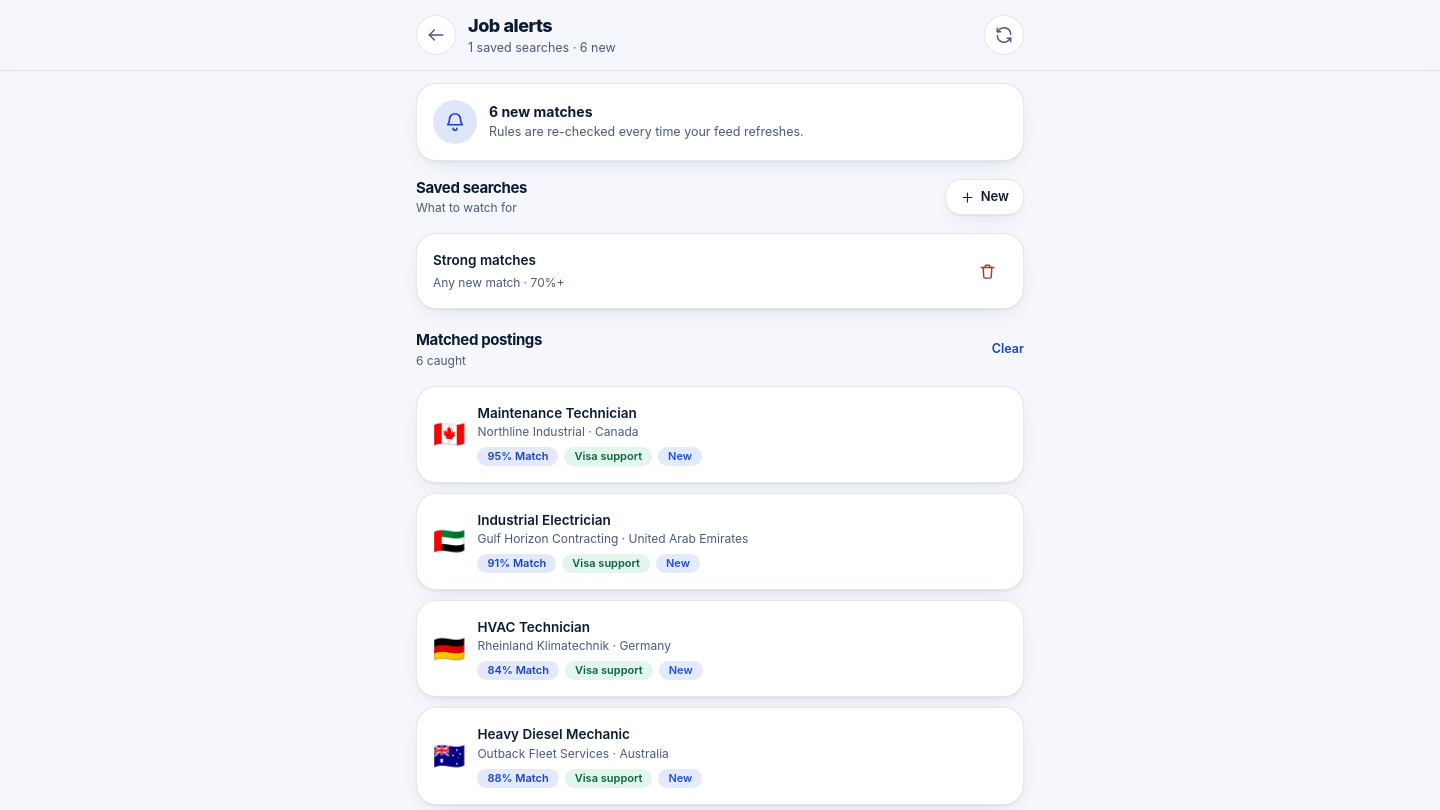
Test: JobAlertsScreen › adds a new saved search from the editor
The width and height of the screenshot is (1440, 810).
Click the button "New".
click(984, 197)  # box [945,179,1024,215]
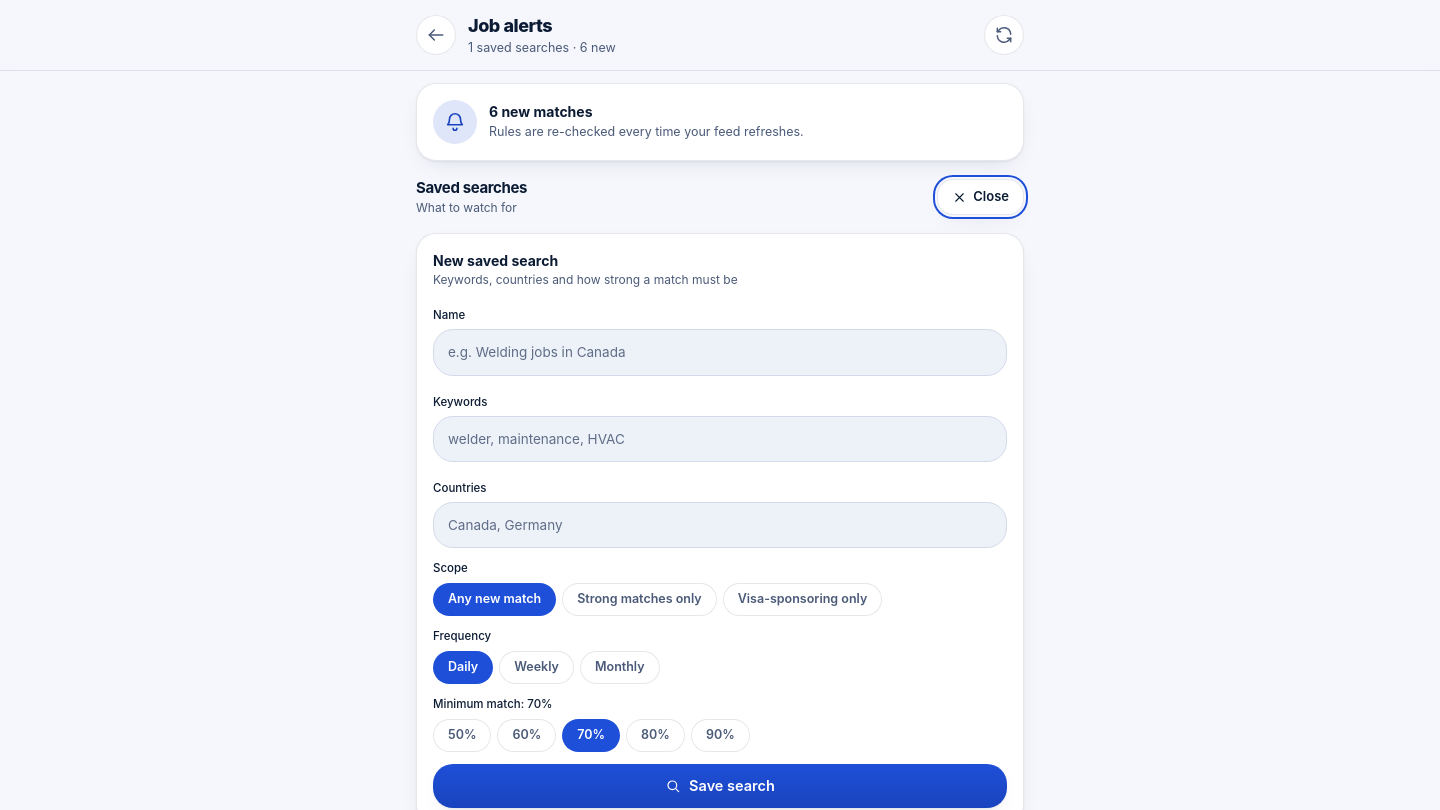
Type "Welders in Canada" into the field with placeholder "e.g. Welding jobs in Canada".
click(720, 352); type("Welders in Canada")  # box [433,329,1007,376]
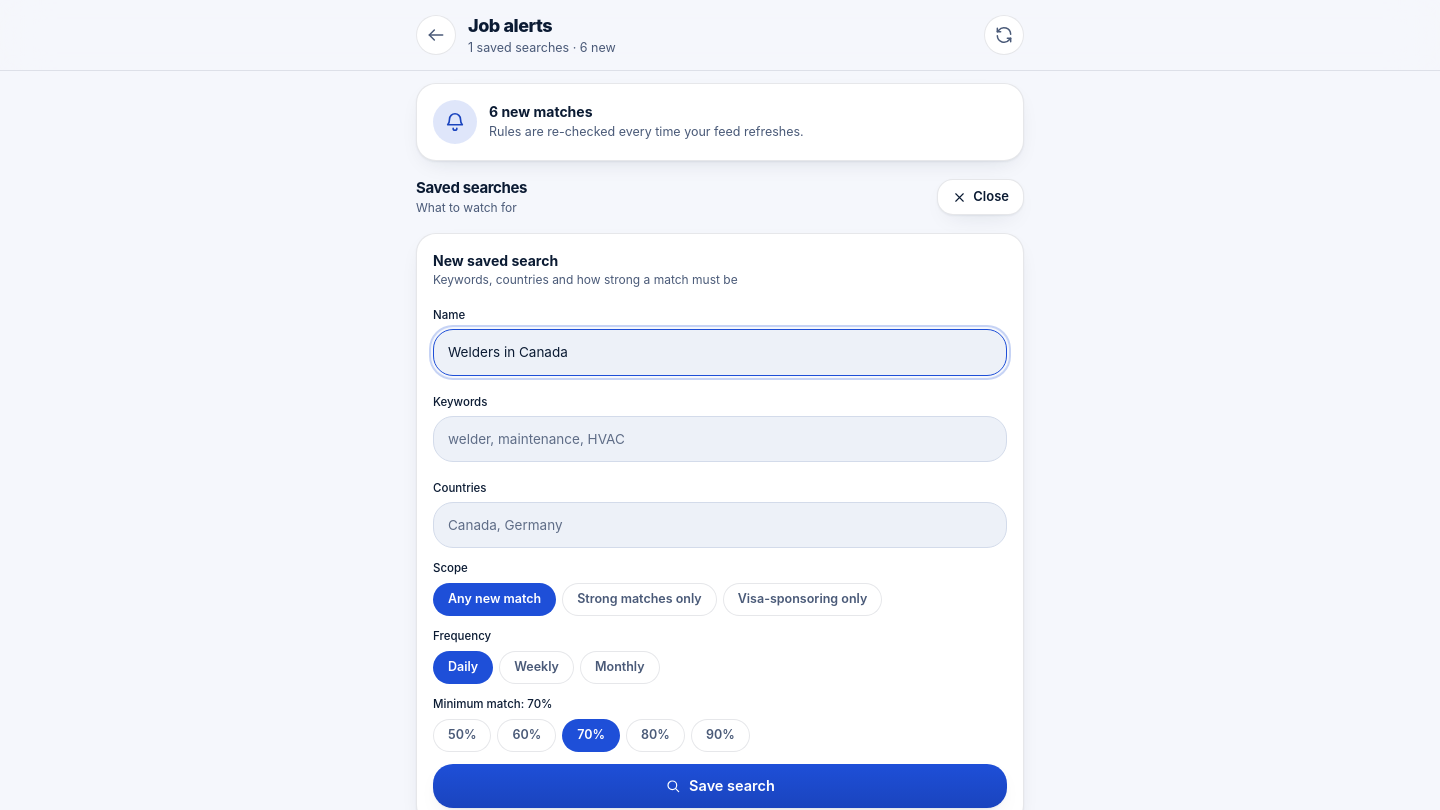
Click the button "Save search".
click(720, 786)  # box [433,764,1007,808]
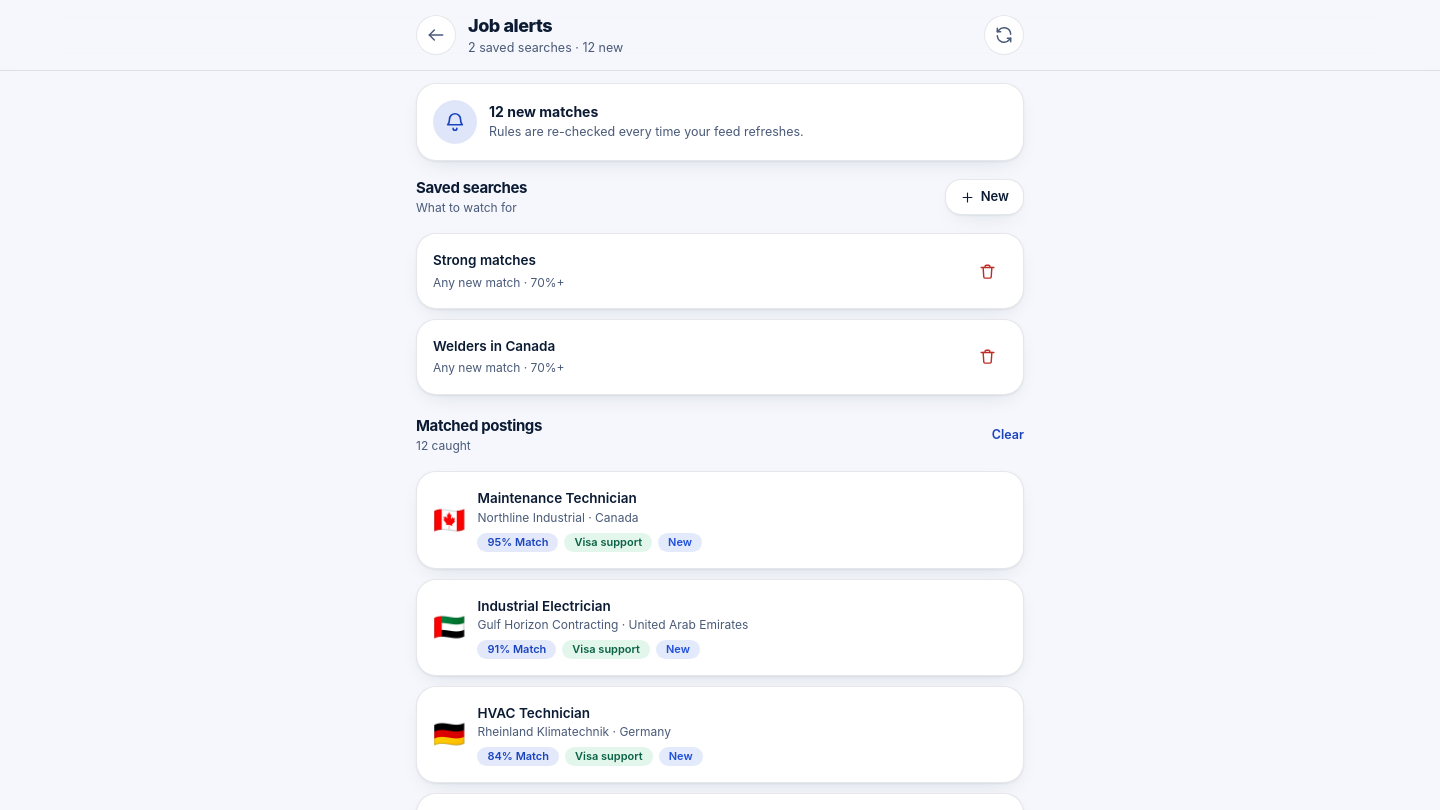
Expected: the text "Welders in Canada" is shown, [433,338,555,354]
